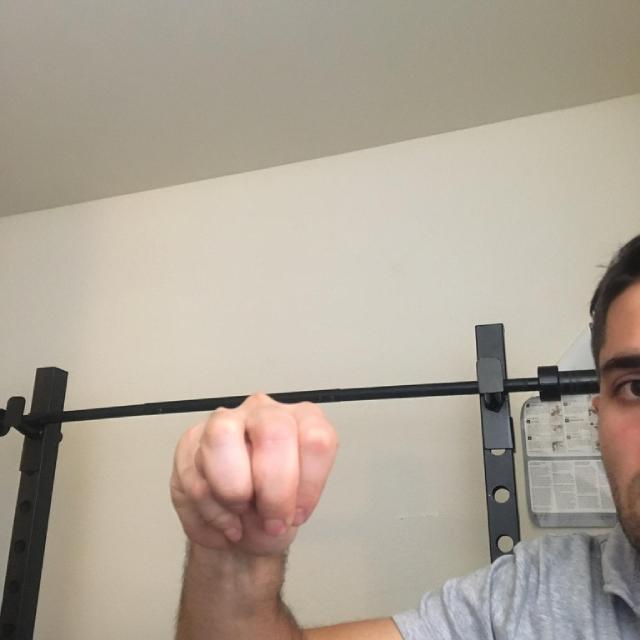M: (115, 357, 369, 574)
